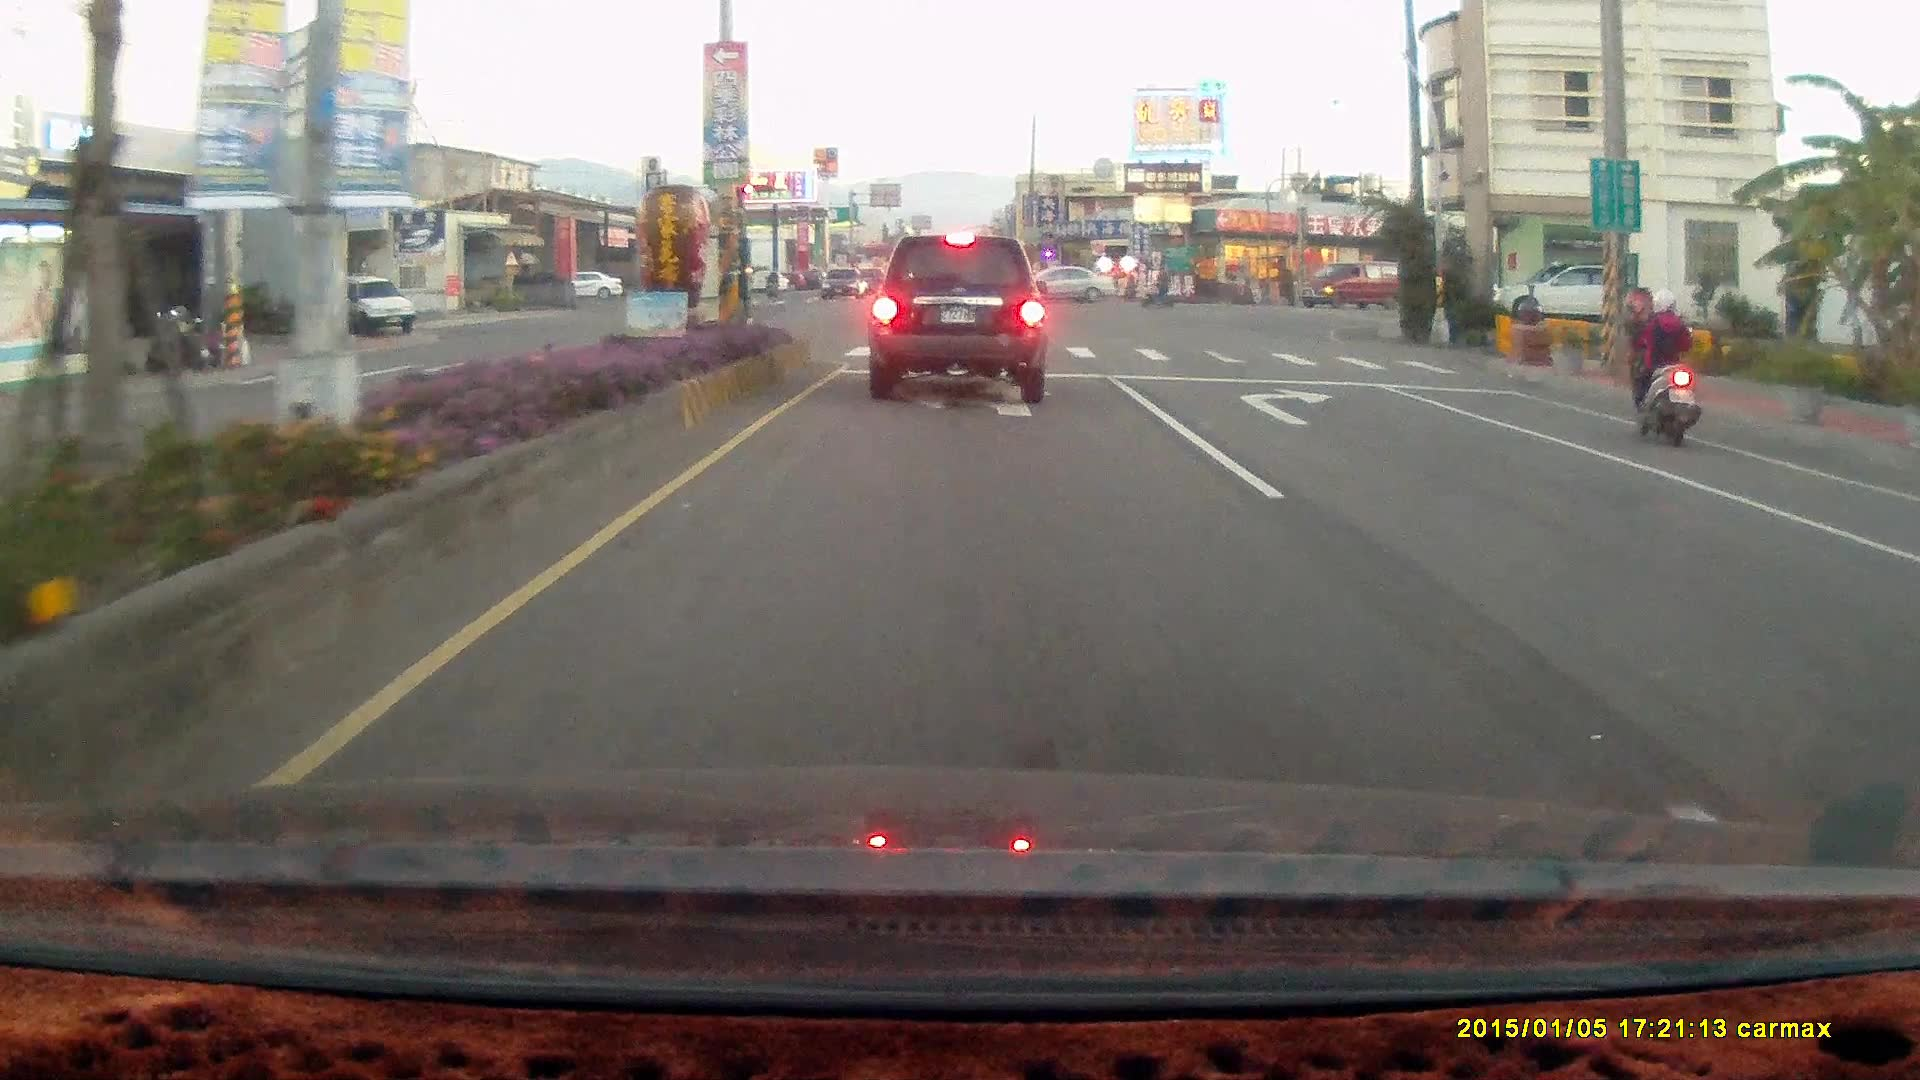rider: (1625, 288, 1701, 452), (1139, 268, 1176, 309)
vehicle: (866, 233, 1049, 403), (1491, 260, 1644, 327), (1896, 493, 1920, 836), (1493, 264, 1616, 330), (1883, 528, 1920, 690), (335, 276, 419, 340), (1297, 262, 1404, 310), (1006, 266, 1117, 310), (1006, 263, 1113, 305), (1302, 268, 1394, 314)
